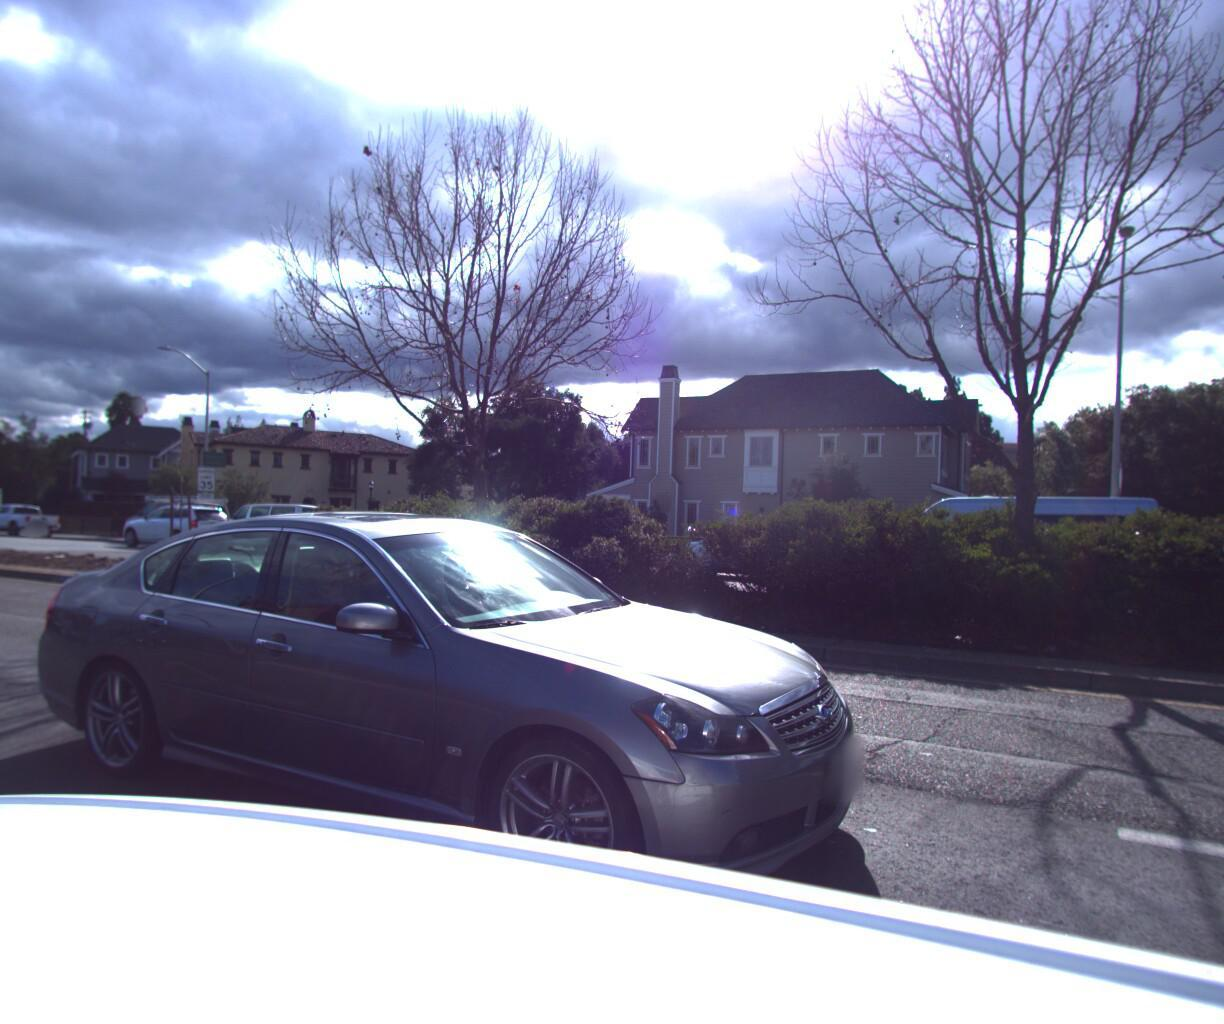car: (15, 477, 923, 1007), (846, 478, 1170, 605), (204, 491, 333, 552), (112, 497, 242, 550), (115, 487, 233, 540), (0, 495, 62, 534)
other_vehicle: (0, 469, 5, 531)
